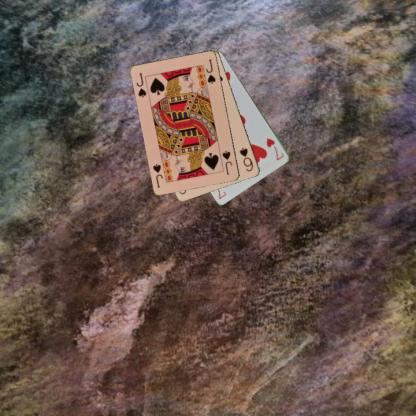6s: (237, 145, 254, 173)
7h: (264, 135, 285, 162)
Js: (219, 148, 234, 176), (134, 70, 148, 99)
